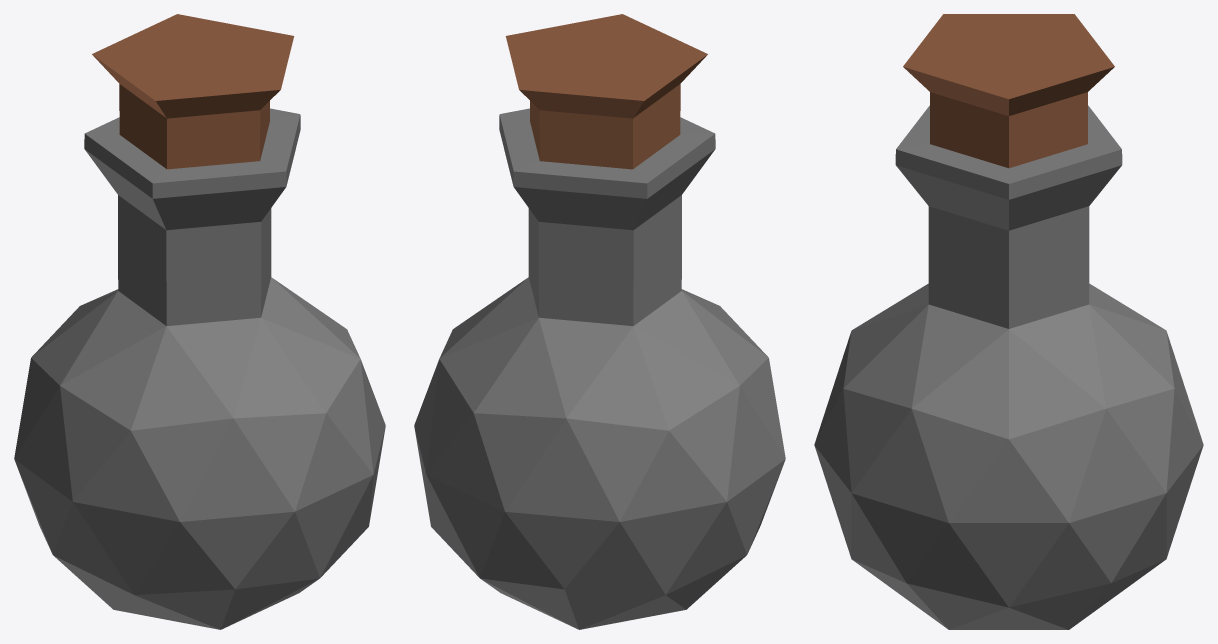
File: Poçao_Drop.fbx
3 views of the same model, side by side, from view 1: azimuth 30°, elevation 25°; view 2: azimuth 150°, elevation 25°; view 3: azimuth 270°, elevation 25° (orthographic). The views are drawn at different scales.
Visible parts, largest first — view 1: Flask; view 2: Flask; view 3: Flask.
Part boxes in pixels (<box>): Flask: <box>14,14,385,629</box>; Flask: <box>414,14,785,629</box>; Flask: <box>814,14,1203,629</box>.
Size of the model in its own units: 192 by 326 by 202.
